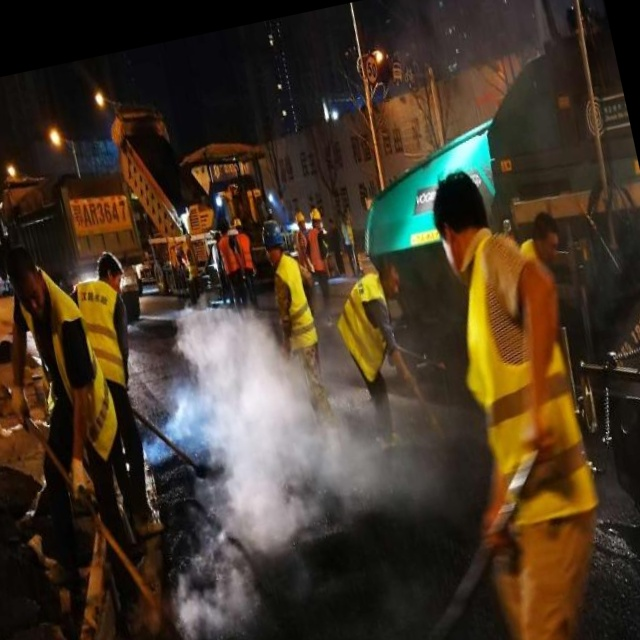Con_Chaleco: (330, 272, 401, 382), (271, 257, 320, 352)
